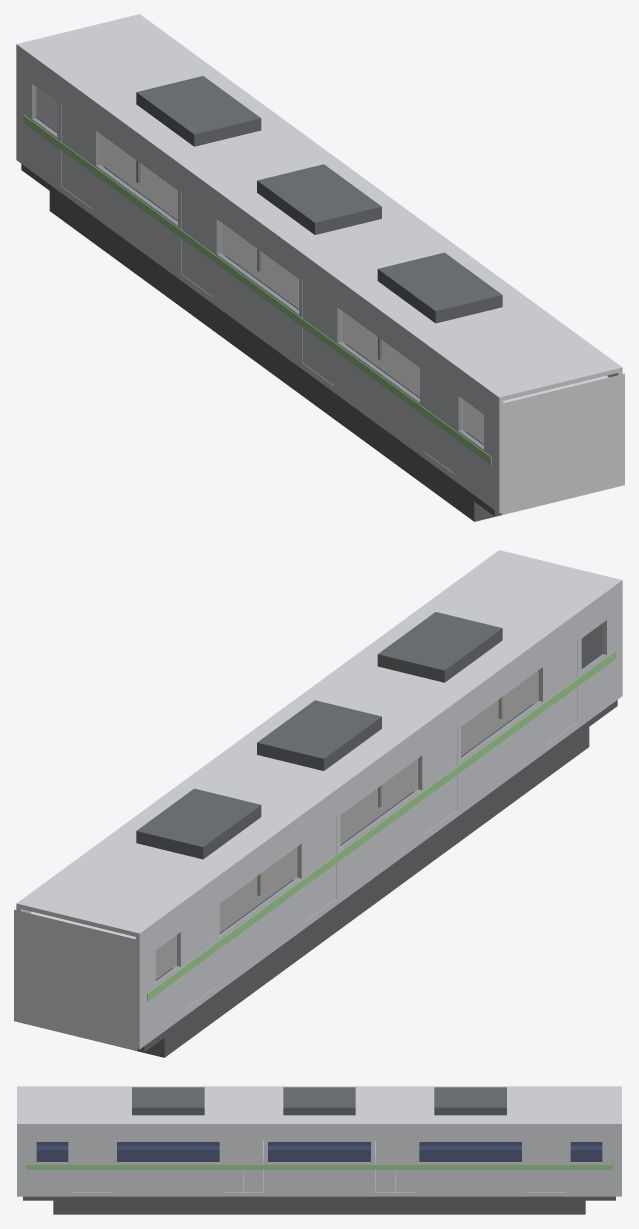
Rendered from metro_voiture.glb.
3 renders of one model, top to bottom at view 1: azimuth 30°, elevation 25°; view 2: azimuth 150°, elevation 25°; view 3: azimuth 270°, elevation 25°, orthographic. The views are drawn at different scales.
Parts seen in each view (by area): view 1: E235_voiture; view 2: E235_voiture; view 3: E235_voiture.
Boxes of the visible parts, <box> form: E235_voiture: <box>16,14,624,521</box>; E235_voiture: <box>14,550,622,1057</box>; E235_voiture: <box>17,1086,621,1214</box>.
Size of the model in its own units: 2.98 by 3.63 by 20.2.
